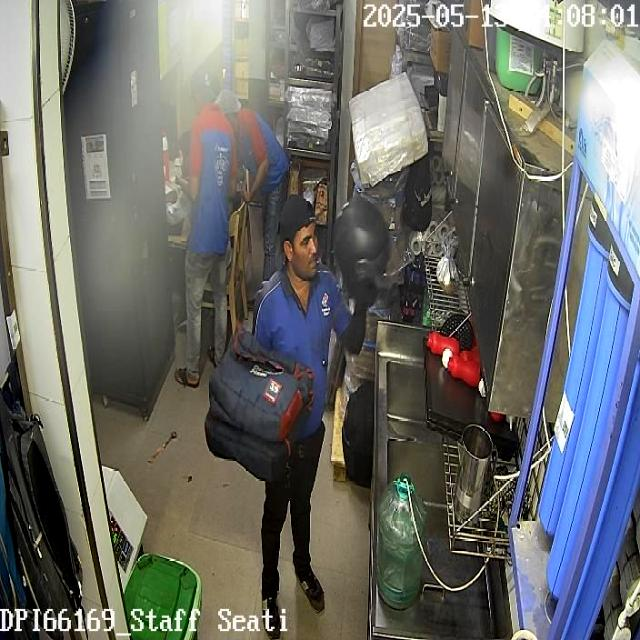no_helmet: (277, 193, 320, 284)
